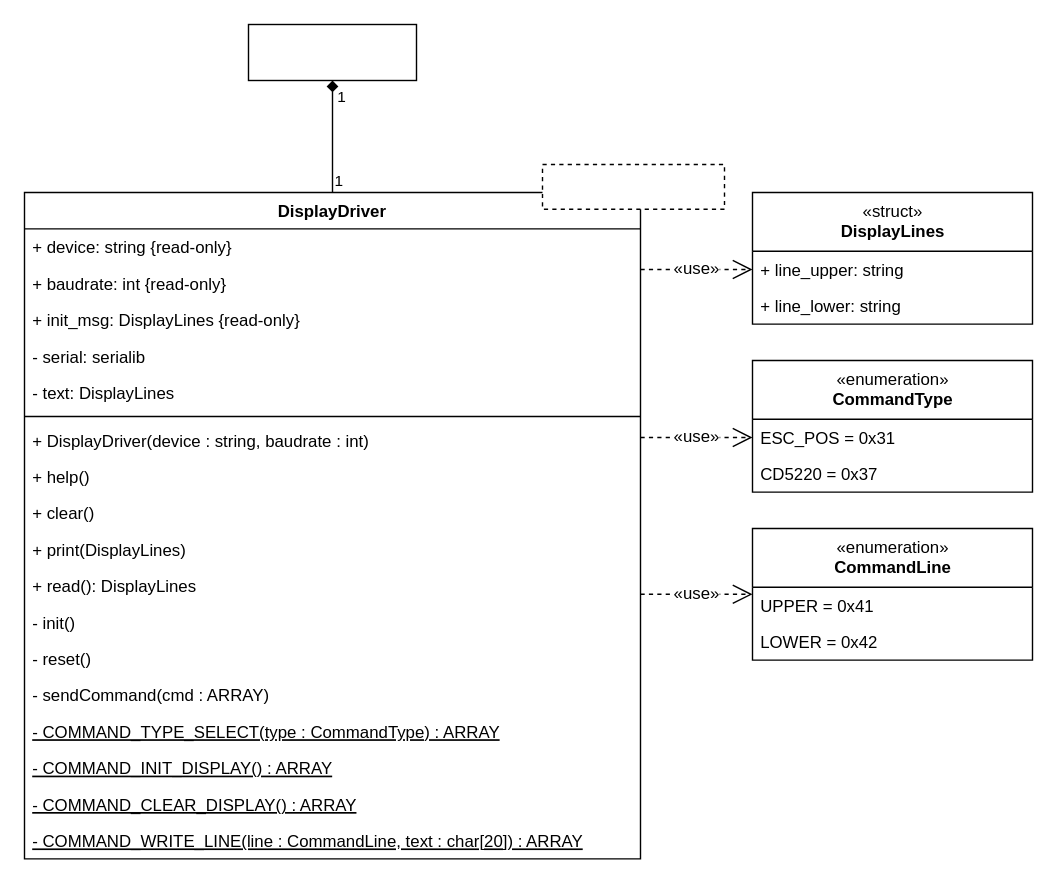
Image size: 1057x888. Some labels were removed from this diagram. The shapes that lost their labels are listed below. From the top down, each one's centre as x and y in pixels, then its label:
the point at 331,51: «external» serialib
the point at 632,186: ARRAY : Iterable Array
